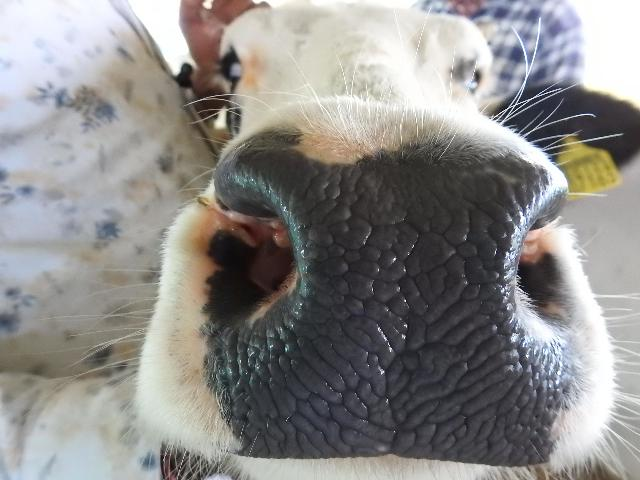Muzzle: (259, 162, 516, 459)
